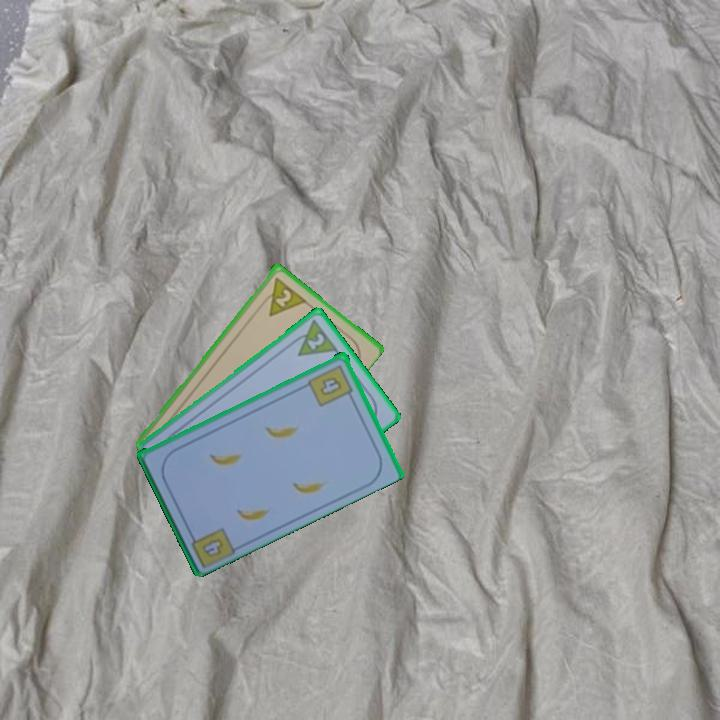2p: (255, 273, 308, 319), (303, 329, 328, 353)
4b: (305, 361, 356, 409), (185, 523, 238, 569)
